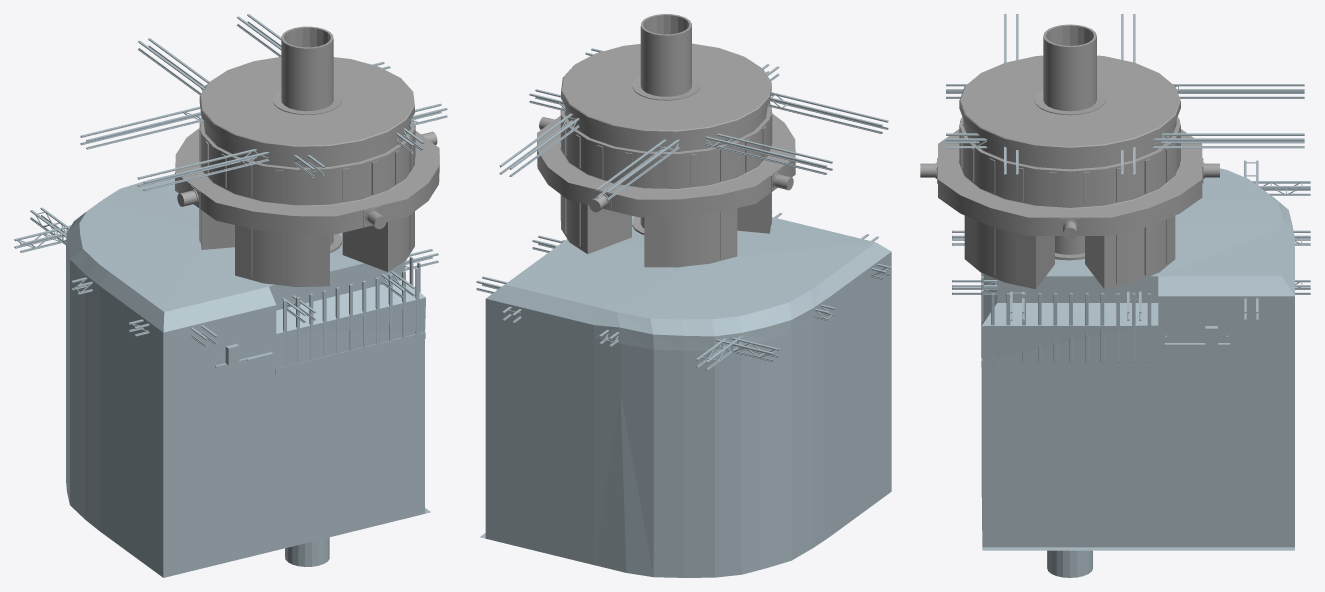
File: UpdatedRoom01.fbx
3 views of the same model, side by side, from view 1: azimuth 30°, elevation 25°; view 2: azimuth 150°, elevation 25°; view 3: azimuth 270°, elevation 25° (orthographic). The views are drawn at different scales.
Parts seen in each view (by area): view 1: roomLayout03:WALLS, pCylinder3, GIRDERS1, pCylinder4, roomLayout03:Wall_Struts, roomLayout03:GIRDERS1, roomLayout03:base, ELEVATOR; view 2: roomLayout03:WALLS, pCylinder3, GIRDERS1, pCylinder4, roomLayout03:GIRDERS1; view 3: roomLayout03:WALLS, pCylinder3, pCylinder4, GIRDERS1, roomLayout03:Wall_Struts, roomLayout03:GIRDERS1, roomLayout03:base, ELEVATOR, ElevatorChute.
Boxes of the visible parts, bbox=[...] form: roomLayout03:WALLS: bbox=[66, 174, 430, 577]; pCylinder3: bbox=[175, 57, 439, 286]; GIRDERS1: bbox=[80, 14, 447, 191]; pCylinder4: bbox=[272, 26, 341, 114]; roomLayout03:Wall_Struts: bbox=[283, 256, 420, 366]; roomLayout03:GIRDERS1: bbox=[14, 207, 438, 347]; roomLayout03:base: bbox=[275, 332, 425, 374]; ELEVATOR: bbox=[285, 537, 329, 566]; roomLayout03:WALLS: bbox=[480, 216, 891, 577]; pCylinder3: bbox=[537, 43, 795, 267]; GIRDERS1: bbox=[499, 48, 888, 200]; pCylinder4: bbox=[632, 14, 700, 100]; roomLayout03:GIRDERS1: bbox=[476, 211, 891, 370]; roomLayout03:WALLS: bbox=[981, 168, 1294, 550]; pCylinder3: bbox=[937, 55, 1203, 289]; pCylinder4: bbox=[1034, 24, 1105, 115]; GIRDERS1: bbox=[946, 14, 1304, 174]; roomLayout03:Wall_Struts: bbox=[981, 273, 1151, 362]; roomLayout03:GIRDERS1: bbox=[952, 160, 1310, 320]; roomLayout03:base: bbox=[981, 358, 1158, 367]; ELEVATOR: bbox=[1047, 550, 1092, 577]; ElevatorChute: bbox=[1055, 236, 1084, 260].
Bounding box in the file's own units: 5258 × 7973 × 5297.
